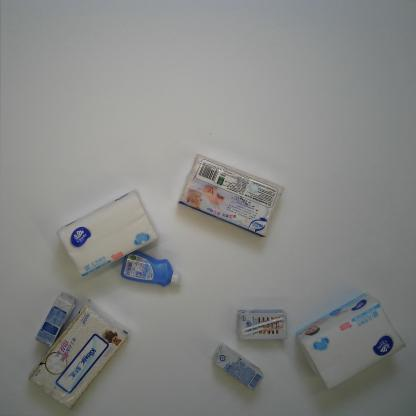Milk: (211, 343, 265, 391), (34, 291, 77, 348), (237, 308, 288, 340)
Personal Hygiene: (121, 249, 180, 287)
Tissue: (27, 299, 132, 411), (295, 291, 406, 391), (176, 153, 284, 238), (55, 191, 158, 278)
